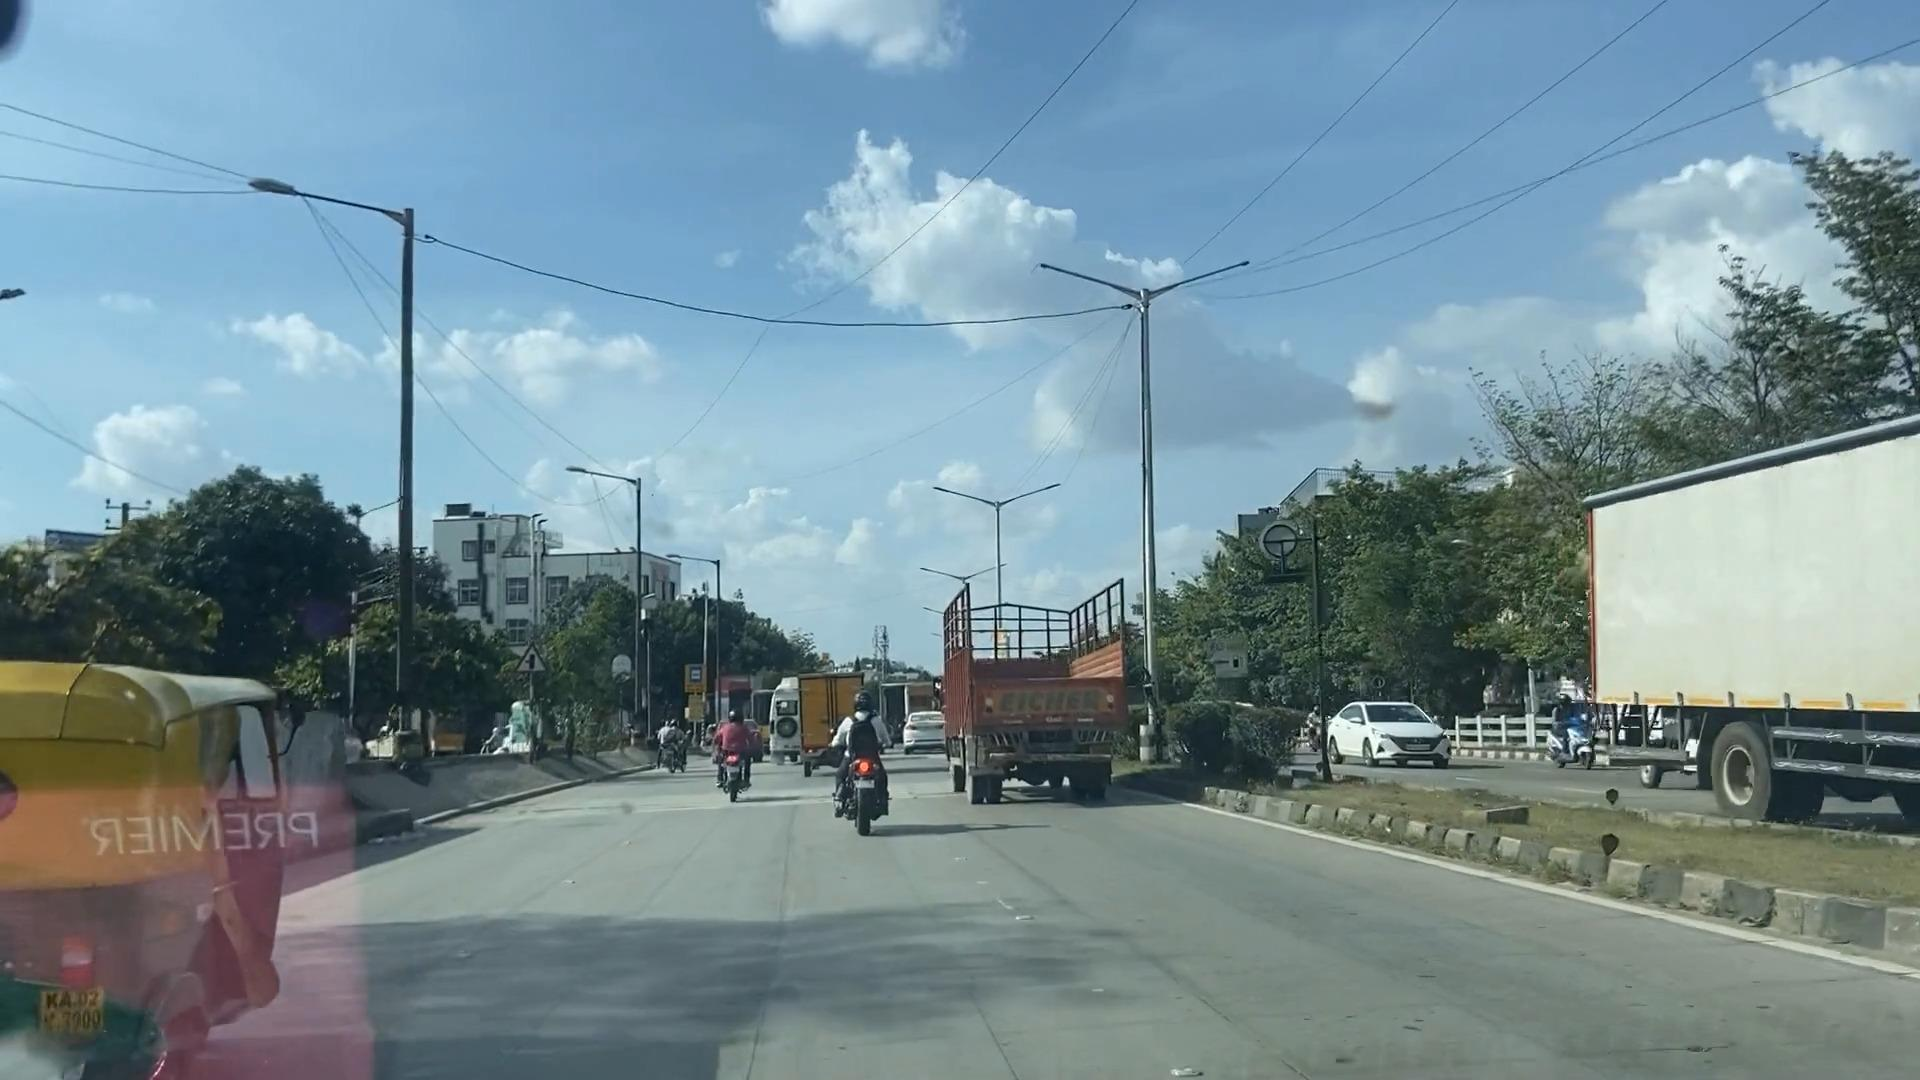HMV: (940, 583, 1129, 803)
LMV: (11, 645, 282, 1080), (827, 704, 889, 822)
